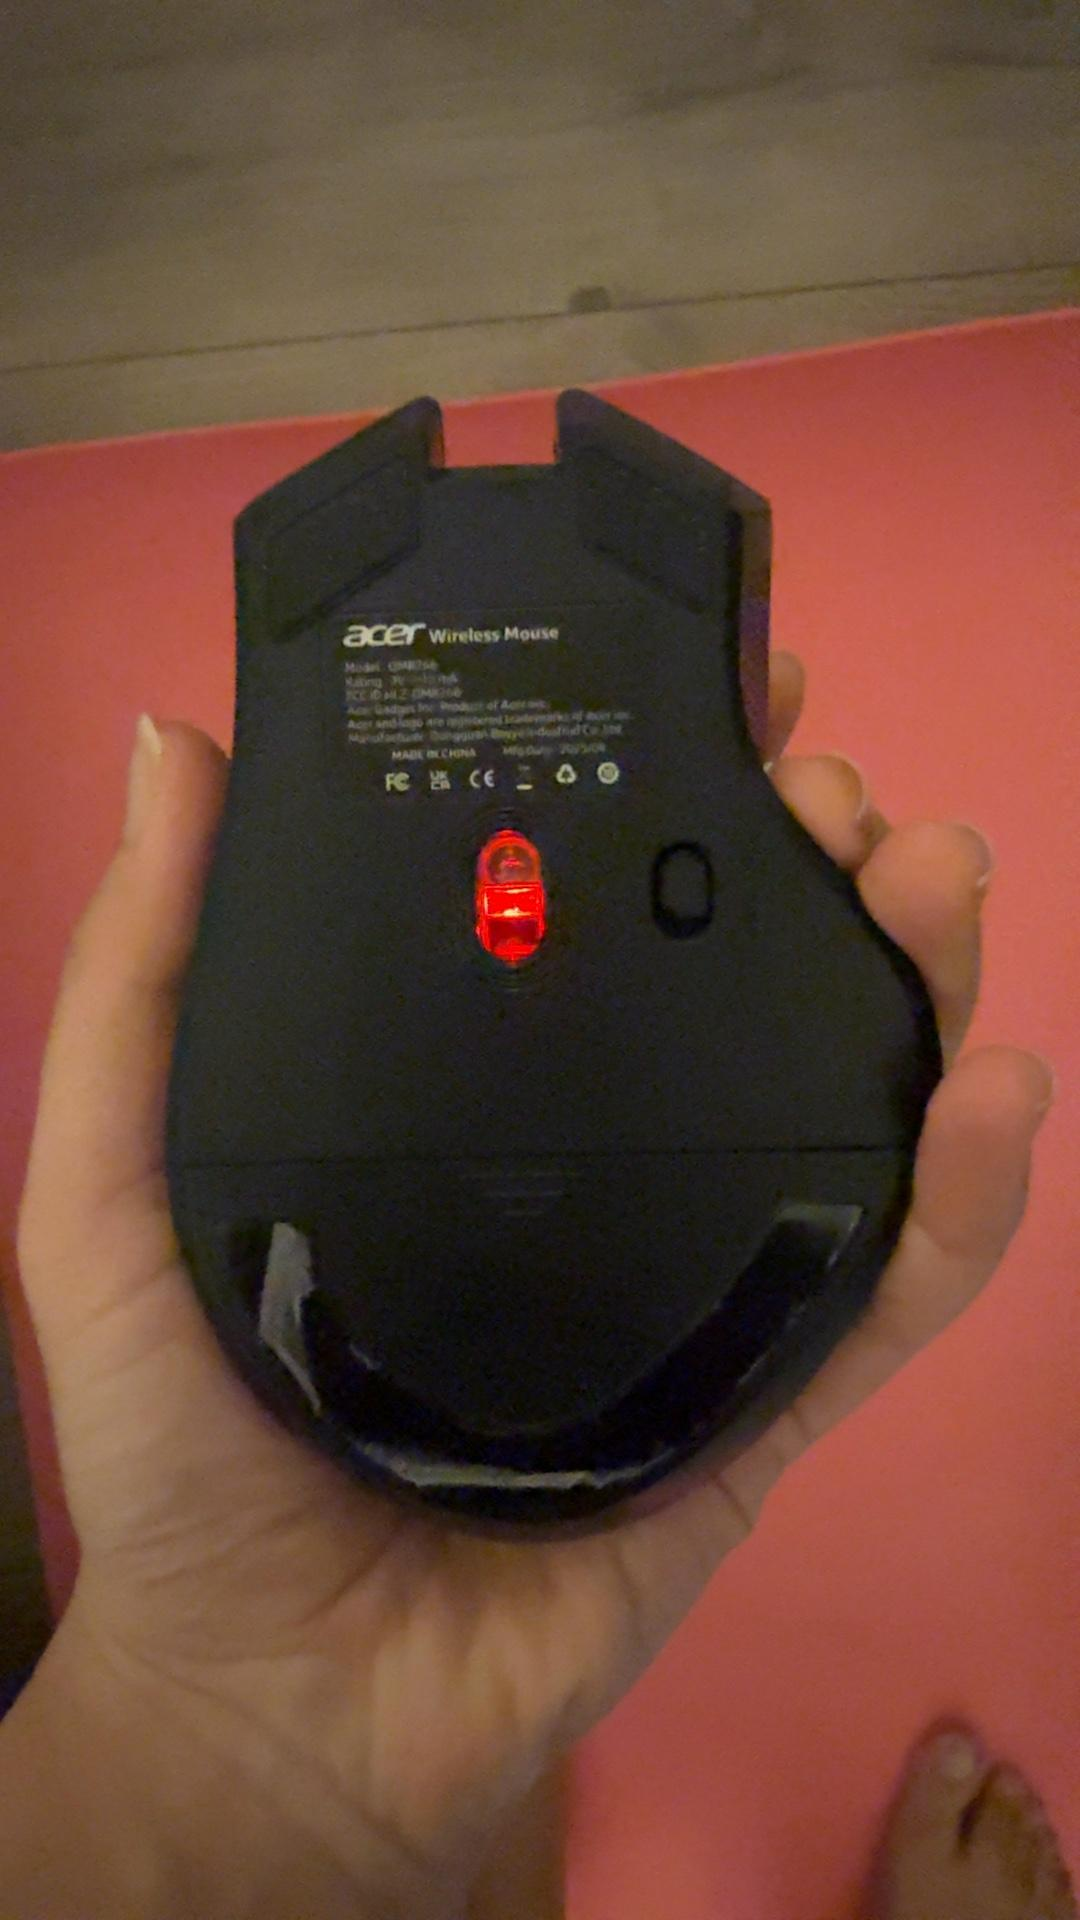Mouse: (145, 390, 932, 1548)
